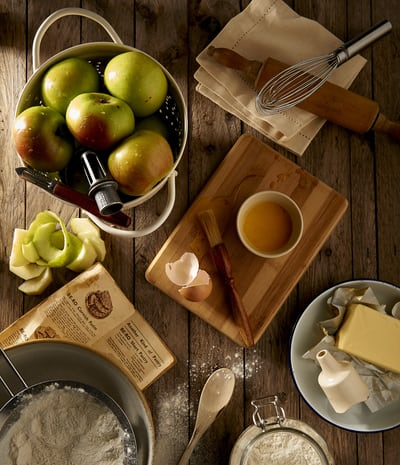apple: (4, 212, 106, 295), (103, 122, 179, 202), (60, 91, 137, 153), (101, 48, 170, 117), (12, 105, 76, 174), (41, 56, 98, 114)
